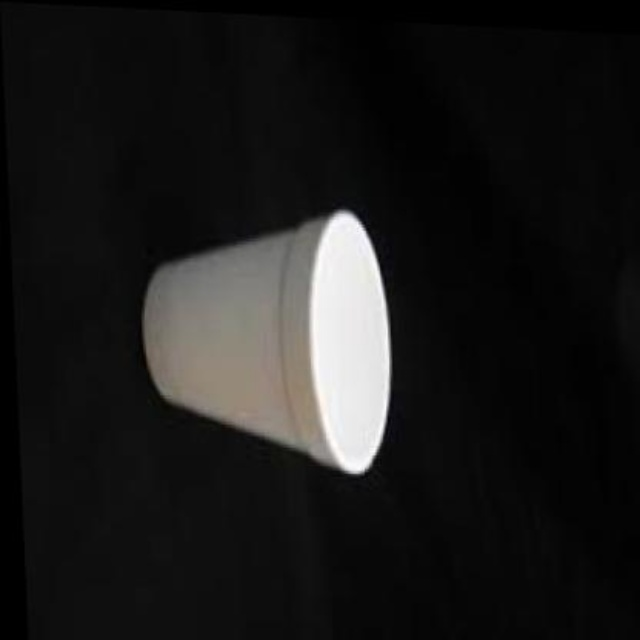trash: (143, 211, 389, 472)
